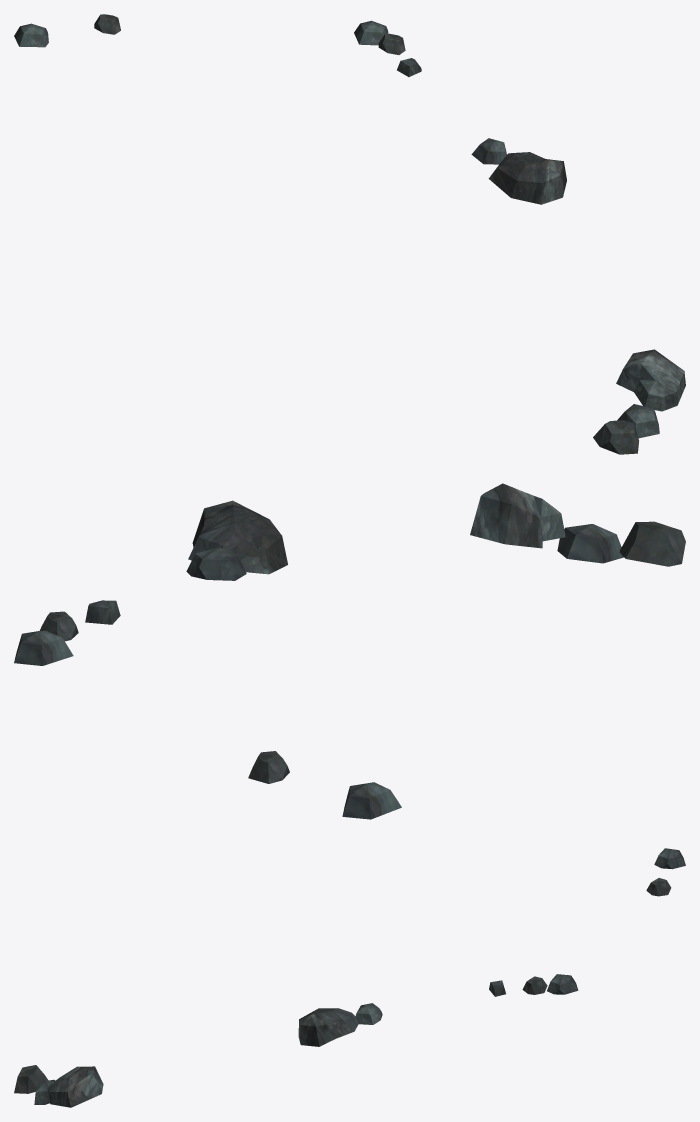
Rendered from object_rubble31.fbx.
3 renders of one model, top to bottom at view 1: azimuth 30°, elevation 25°; view 2: azimuth 150°, elevation 25°; view 3: azimuth 270°, elevation 25°, orthographic. The views are drawn at different scales.
Visible parts, largest first — view 1: obj0.104; view 2: obj0.104; view 3: obj0.104.
Boxes of the visible parts, left/top/right/bottom form: obj0.104: left=14, top=14, right=685, bottom=454; obj0.104: left=14, top=483, right=685, bottom=819; obj0.104: left=14, top=848, right=685, bottom=1107.
Bounding box in the file's own units: 4.77 × 2.55 × 9.81.
